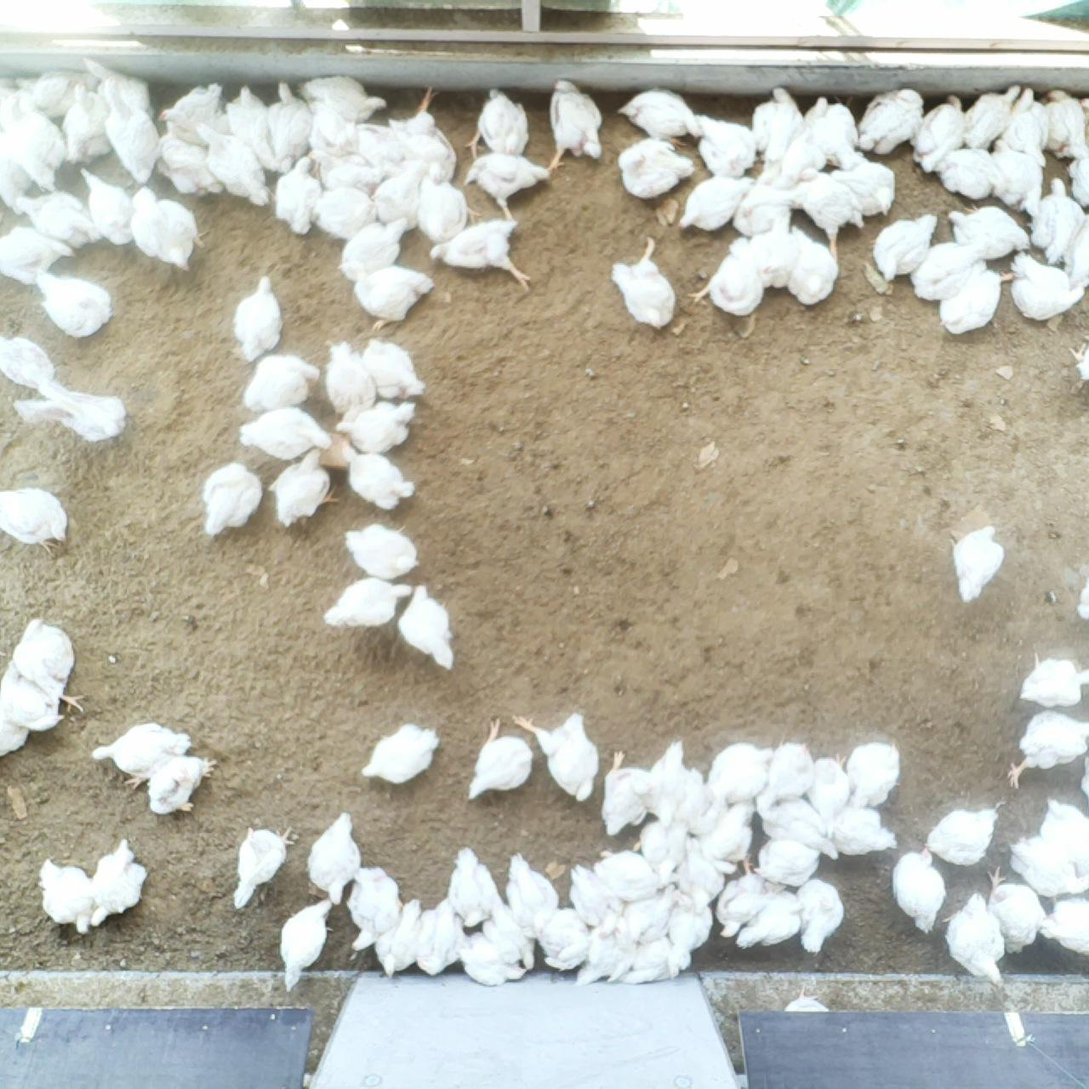chicken: (513, 713, 599, 801), (428, 222, 534, 293), (793, 169, 863, 271), (129, 186, 208, 273), (193, 120, 271, 207), (102, 73, 162, 186), (338, 261, 436, 330), (392, 85, 458, 185), (1007, 710, 1089, 789), (999, 249, 1086, 323), (690, 235, 764, 319), (463, 152, 551, 222), (95, 722, 190, 786), (613, 236, 677, 329), (328, 215, 410, 284), (271, 448, 342, 527), (714, 853, 778, 939), (547, 77, 603, 173), (37, 270, 115, 338), (945, 893, 1004, 982), (758, 797, 841, 860), (397, 583, 457, 670), (279, 900, 335, 993), (779, 226, 843, 307), (470, 717, 532, 800), (26, 618, 90, 698), (1026, 177, 1085, 262), (7, 106, 63, 195), (987, 867, 1046, 951), (239, 406, 332, 459), (344, 441, 416, 509), (345, 866, 401, 953), (236, 822, 293, 907), (361, 722, 440, 783), (308, 809, 359, 903), (0, 669, 77, 731), (0, 486, 69, 555), (1010, 834, 1089, 894), (620, 137, 694, 200), (202, 461, 262, 537), (79, 167, 133, 251), (15, 194, 93, 252), (804, 92, 862, 170), (243, 355, 322, 412), (678, 172, 753, 232), (908, 239, 984, 298), (855, 86, 925, 150), (322, 577, 413, 626), (925, 807, 999, 867), (873, 215, 939, 282), (507, 851, 559, 935), (894, 848, 945, 932), (149, 755, 218, 817), (533, 910, 602, 972), (737, 890, 806, 952), (233, 275, 282, 362), (94, 840, 145, 923), (947, 205, 1030, 256), (466, 88, 529, 155), (914, 94, 968, 172), (345, 524, 420, 580), (989, 138, 1045, 213), (949, 526, 1004, 602), (305, 70, 390, 119), (619, 91, 702, 141), (416, 898, 469, 976), (335, 401, 416, 452), (603, 750, 654, 831), (266, 74, 314, 160), (461, 927, 523, 992), (938, 269, 1000, 334), (706, 741, 773, 801), (417, 186, 485, 245), (827, 162, 898, 218), (694, 115, 757, 178), (375, 899, 425, 978), (64, 81, 111, 165), (961, 83, 1022, 147), (41, 859, 91, 936), (757, 739, 814, 806), (14, 66, 87, 118), (362, 339, 426, 398), (483, 904, 537, 973), (574, 929, 636, 989), (0, 225, 58, 289), (754, 86, 805, 158), (1020, 652, 1089, 705), (1003, 86, 1048, 167), (1042, 797, 1089, 874), (797, 878, 844, 954), (670, 899, 716, 976), (567, 864, 622, 928), (156, 84, 224, 135), (591, 851, 662, 899), (275, 158, 318, 236), (616, 884, 678, 938), (831, 808, 899, 857), (647, 742, 686, 826), (326, 343, 375, 409), (808, 748, 850, 825), (453, 847, 497, 920), (852, 742, 902, 806), (938, 144, 997, 198), (641, 816, 683, 891), (756, 840, 821, 887), (303, 192, 377, 233), (370, 165, 421, 224), (228, 86, 268, 161), (1040, 896, 1089, 957), (311, 148, 378, 192), (1042, 89, 1084, 151), (623, 936, 677, 983), (0, 141, 32, 206), (0, 718, 30, 752), (1069, 340, 1089, 384), (1077, 580, 1089, 622), (1082, 755, 1089, 804)
